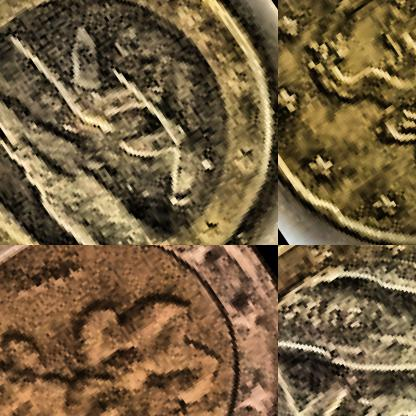coin: (0, 0, 277, 244), (0, 245, 277, 415), (278, 0, 415, 244), (278, 245, 415, 415)
